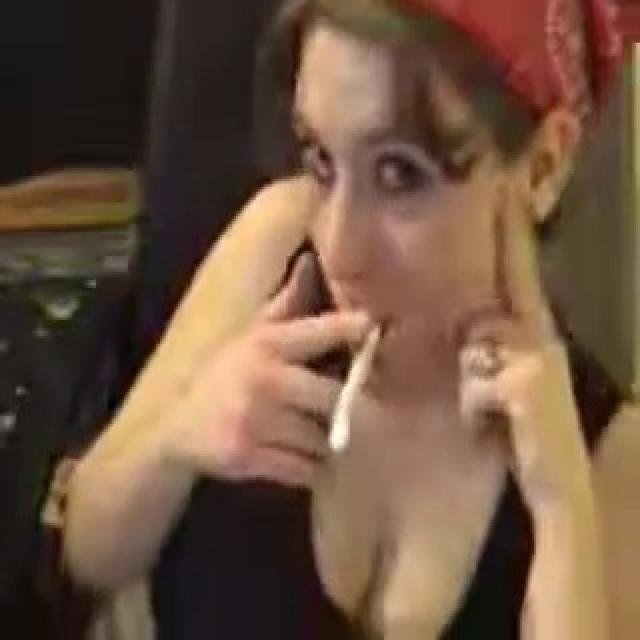Cigarette: (330, 323, 382, 451)
Hand: (185, 250, 376, 490)
Mouth: (338, 309, 400, 344)
